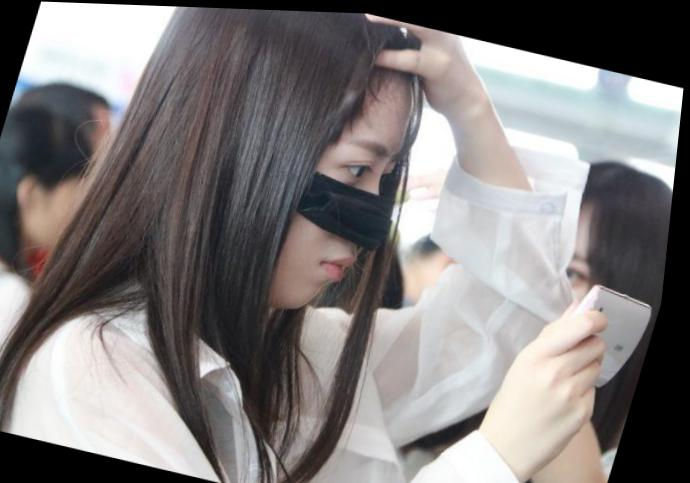WRONG: (225, 82, 431, 329)
